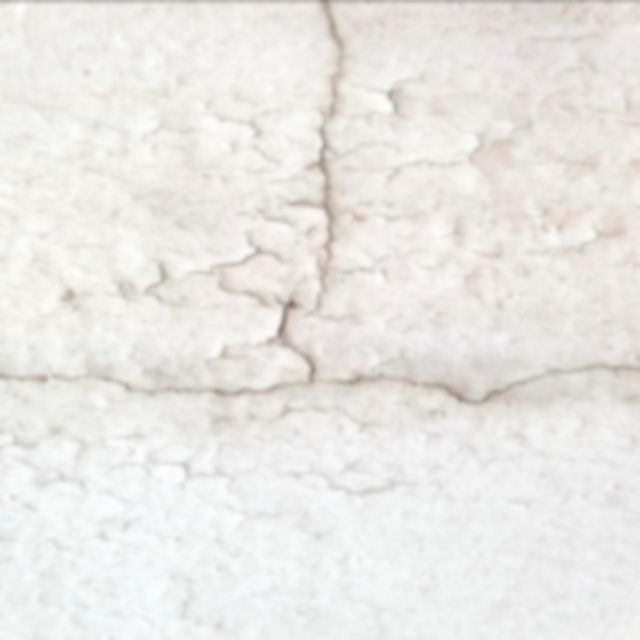SurfaceCrack: (1, 295, 639, 446)
